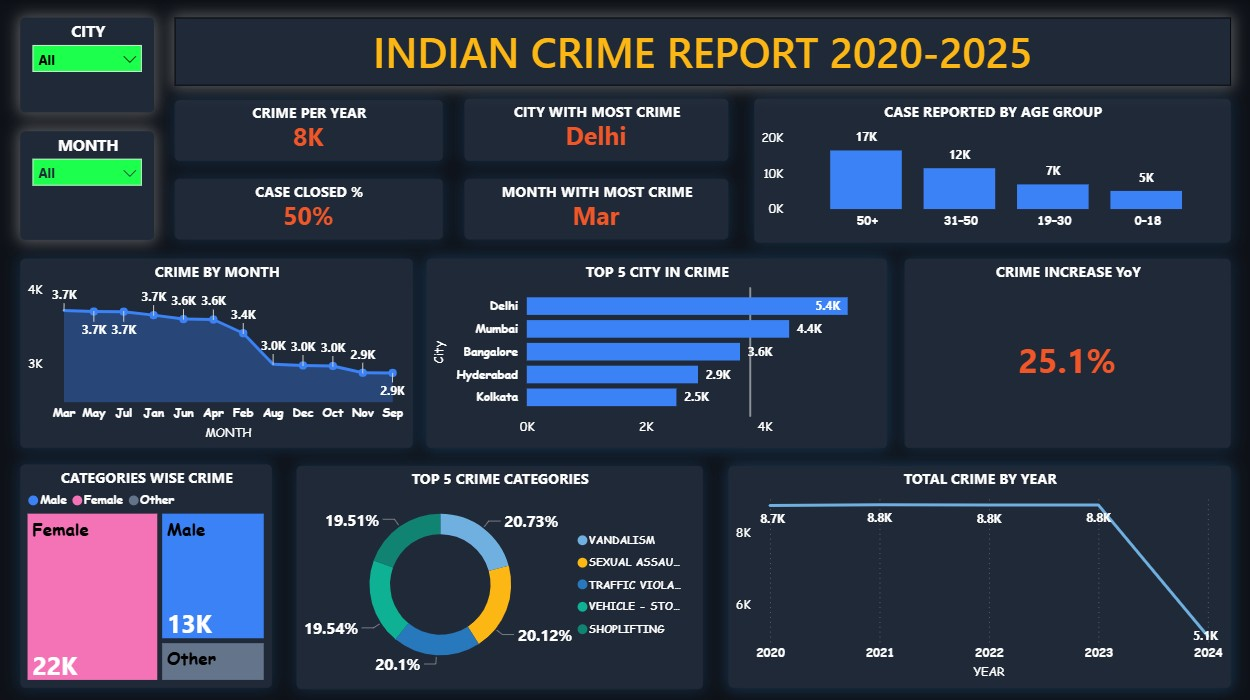

Layout of this report page (visuals, bound fields, positions):
{"tool":"powerbi","page":{"name":"Page 1","canvas":[1280,720],"ordinal":0},"visuals":[{"type":"card","title":"CRIME PER YEAR","fields":{"Values":["India crime dataset.Avg Crime Per Year"]},"box":[178.4,102.4,273.9,62.2],"z":0},{"type":"clusteredBarChart","title":"TOP 5 CITY IN CRIME","fields":{"Category":["India crime dataset.City"],"Y":["India crime dataset.Crime Count"]},"box":[435.7,264.2,470.3,193.6],"z":1000},{"type":"card","title":"CITY WITH MOST CRIME","fields":{"Values":["India crime dataset.City with Max Crime"]},"box":[474.4,101,269.7,63.6],"z":2000},{"type":"donutChart","title":"TOP 5 CRIME CATEGORIES ","fields":{"Category":["India crime dataset.Crime Description"],"Y":["CountNonNull(India crime dataset.Crime Description)"]},"box":[302.9,475.8,414.9,228.2],"z":3000},{"type":"treemap","title":"CATEGORIES WISE CRIME","fields":{"Values":["India crime dataset.Male count","India crime dataset.Female count","India crime dataset.Other count"]},"box":[20.7,474.4,257.3,228.2],"z":4000},{"type":"card","title":"CASE CLOSED %","fields":{"Values":["India crime dataset.Case Closed %"]},"box":[178.4,182.6,273.9,62.2],"z":5000},{"type":"clusteredColumnChart","title":"CASE REPORTED BY AGE GROUP","fields":{"Y":["CountNonNull(India crime dataset.Report Number)"],"Category":["India crime dataset.Age Group"]},"box":[770.4,101,486.9,146.6],"z":6000},{"type":"lineChart","title":"CRIME BY MONTH","fields":{"Category":["India crime dataset.Month Name"],"Y":["India crime dataset.Crime Count"]},"box":[20.7,264.2,401.1,193.6],"z":7000},{"type":"card","title":"MONTH WITH MOST CRIME","fields":{"Values":["India crime dataset.Month With Most Crime"]},"box":[474.4,182.6,269.7,62.2],"z":8000},{"type":"slicer","title":"CITY ","fields":{"Values":["India crime dataset.City"]},"box":[20.7,18,136.9,96.8],"z":9000},{"type":"slicer","title":"MONTH","fields":{"Values":["India crime dataset.Month Name"]},"box":[20.7,134.2,136.9,110.7],"z":10000},{"type":"textbox","box":[178.4,18,1078.9,69.2],"z":11000},{"type":"lineChart","title":"TOTAL CRIME BY YEAR","fields":{"Category":["India crime dataset.Year"],"Y":["India crime dataset.Total Crimes"]},"box":[744.1,475.8,513.2,226.8],"z":12000},{"type":"card","title":"CRIME INCREASE YoY","fields":{"Values":["India crime dataset.YoY Crime Increase %"]},"box":[924,264.2,333.3,193.6],"z":13000}]}

Visuals, with their boxes in screenshot pixels (x1, y1, x2, y2), scaled from the page's 1280x720 canvas onto the 1250x700 screenshot:
"CRIME PER YEAR" card: [174, 100, 442, 160]
"TOP 5 CITY IN CRIME" clusteredBarChart: [425, 257, 885, 445]
"CITY WITH MOST CRIME" card: [463, 98, 727, 160]
"TOP 5 CRIME CATEGORIES " donutChart: [296, 463, 701, 684]
"CATEGORIES WISE CRIME" treemap: [20, 461, 271, 683]
"CASE CLOSED %" card: [174, 178, 442, 238]
"CASE REPORTED BY AGE GROUP" clusteredColumnChart: [752, 98, 1228, 241]
"CRIME BY MONTH" lineChart: [20, 257, 412, 445]
"MONTH WITH MOST CRIME" card: [463, 178, 727, 238]
"CITY " slicer: [20, 18, 154, 112]
"MONTH" slicer: [20, 130, 154, 238]
textbox: [174, 18, 1228, 85]
"TOTAL CRIME BY YEAR" lineChart: [727, 463, 1228, 683]
"CRIME INCREASE YoY" card: [902, 257, 1228, 445]
